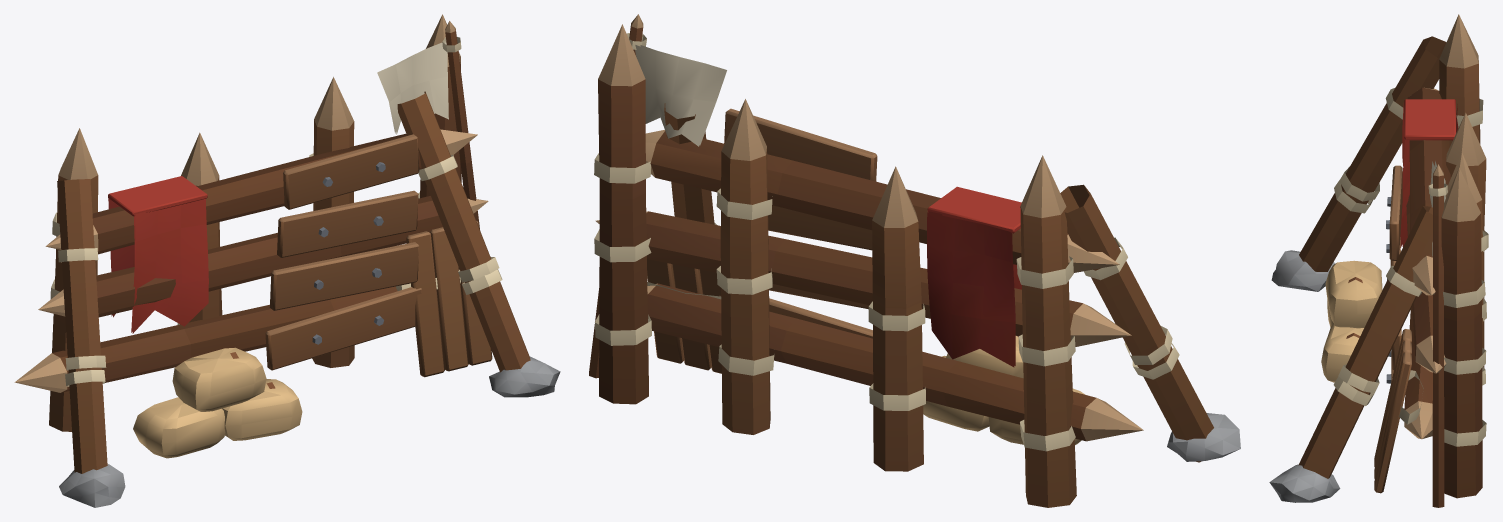
The model's file is muster_barricade.glb.
The picture shows the model from 3 angles, left to right: view 1: azimuth 30°, elevation 25°; view 2: azimuth 150°, elevation 25°; view 3: azimuth 270°, elevation 25°; orthographic projection. The views are drawn at different scales.
Visible parts, largest first — view 1: MusterBarricadeBody; view 2: MusterBarricadeBody; view 3: MusterBarricadeBody.
Part boxes in pixels (bbox=[...]): MusterBarricadeBody: bbox=[14, 14, 560, 507]; MusterBarricadeBody: bbox=[589, 14, 1240, 507]; MusterBarricadeBody: bbox=[1269, 14, 1488, 507].
Size of the model in its own units: 6.27 by 3.96 by 2.38.
